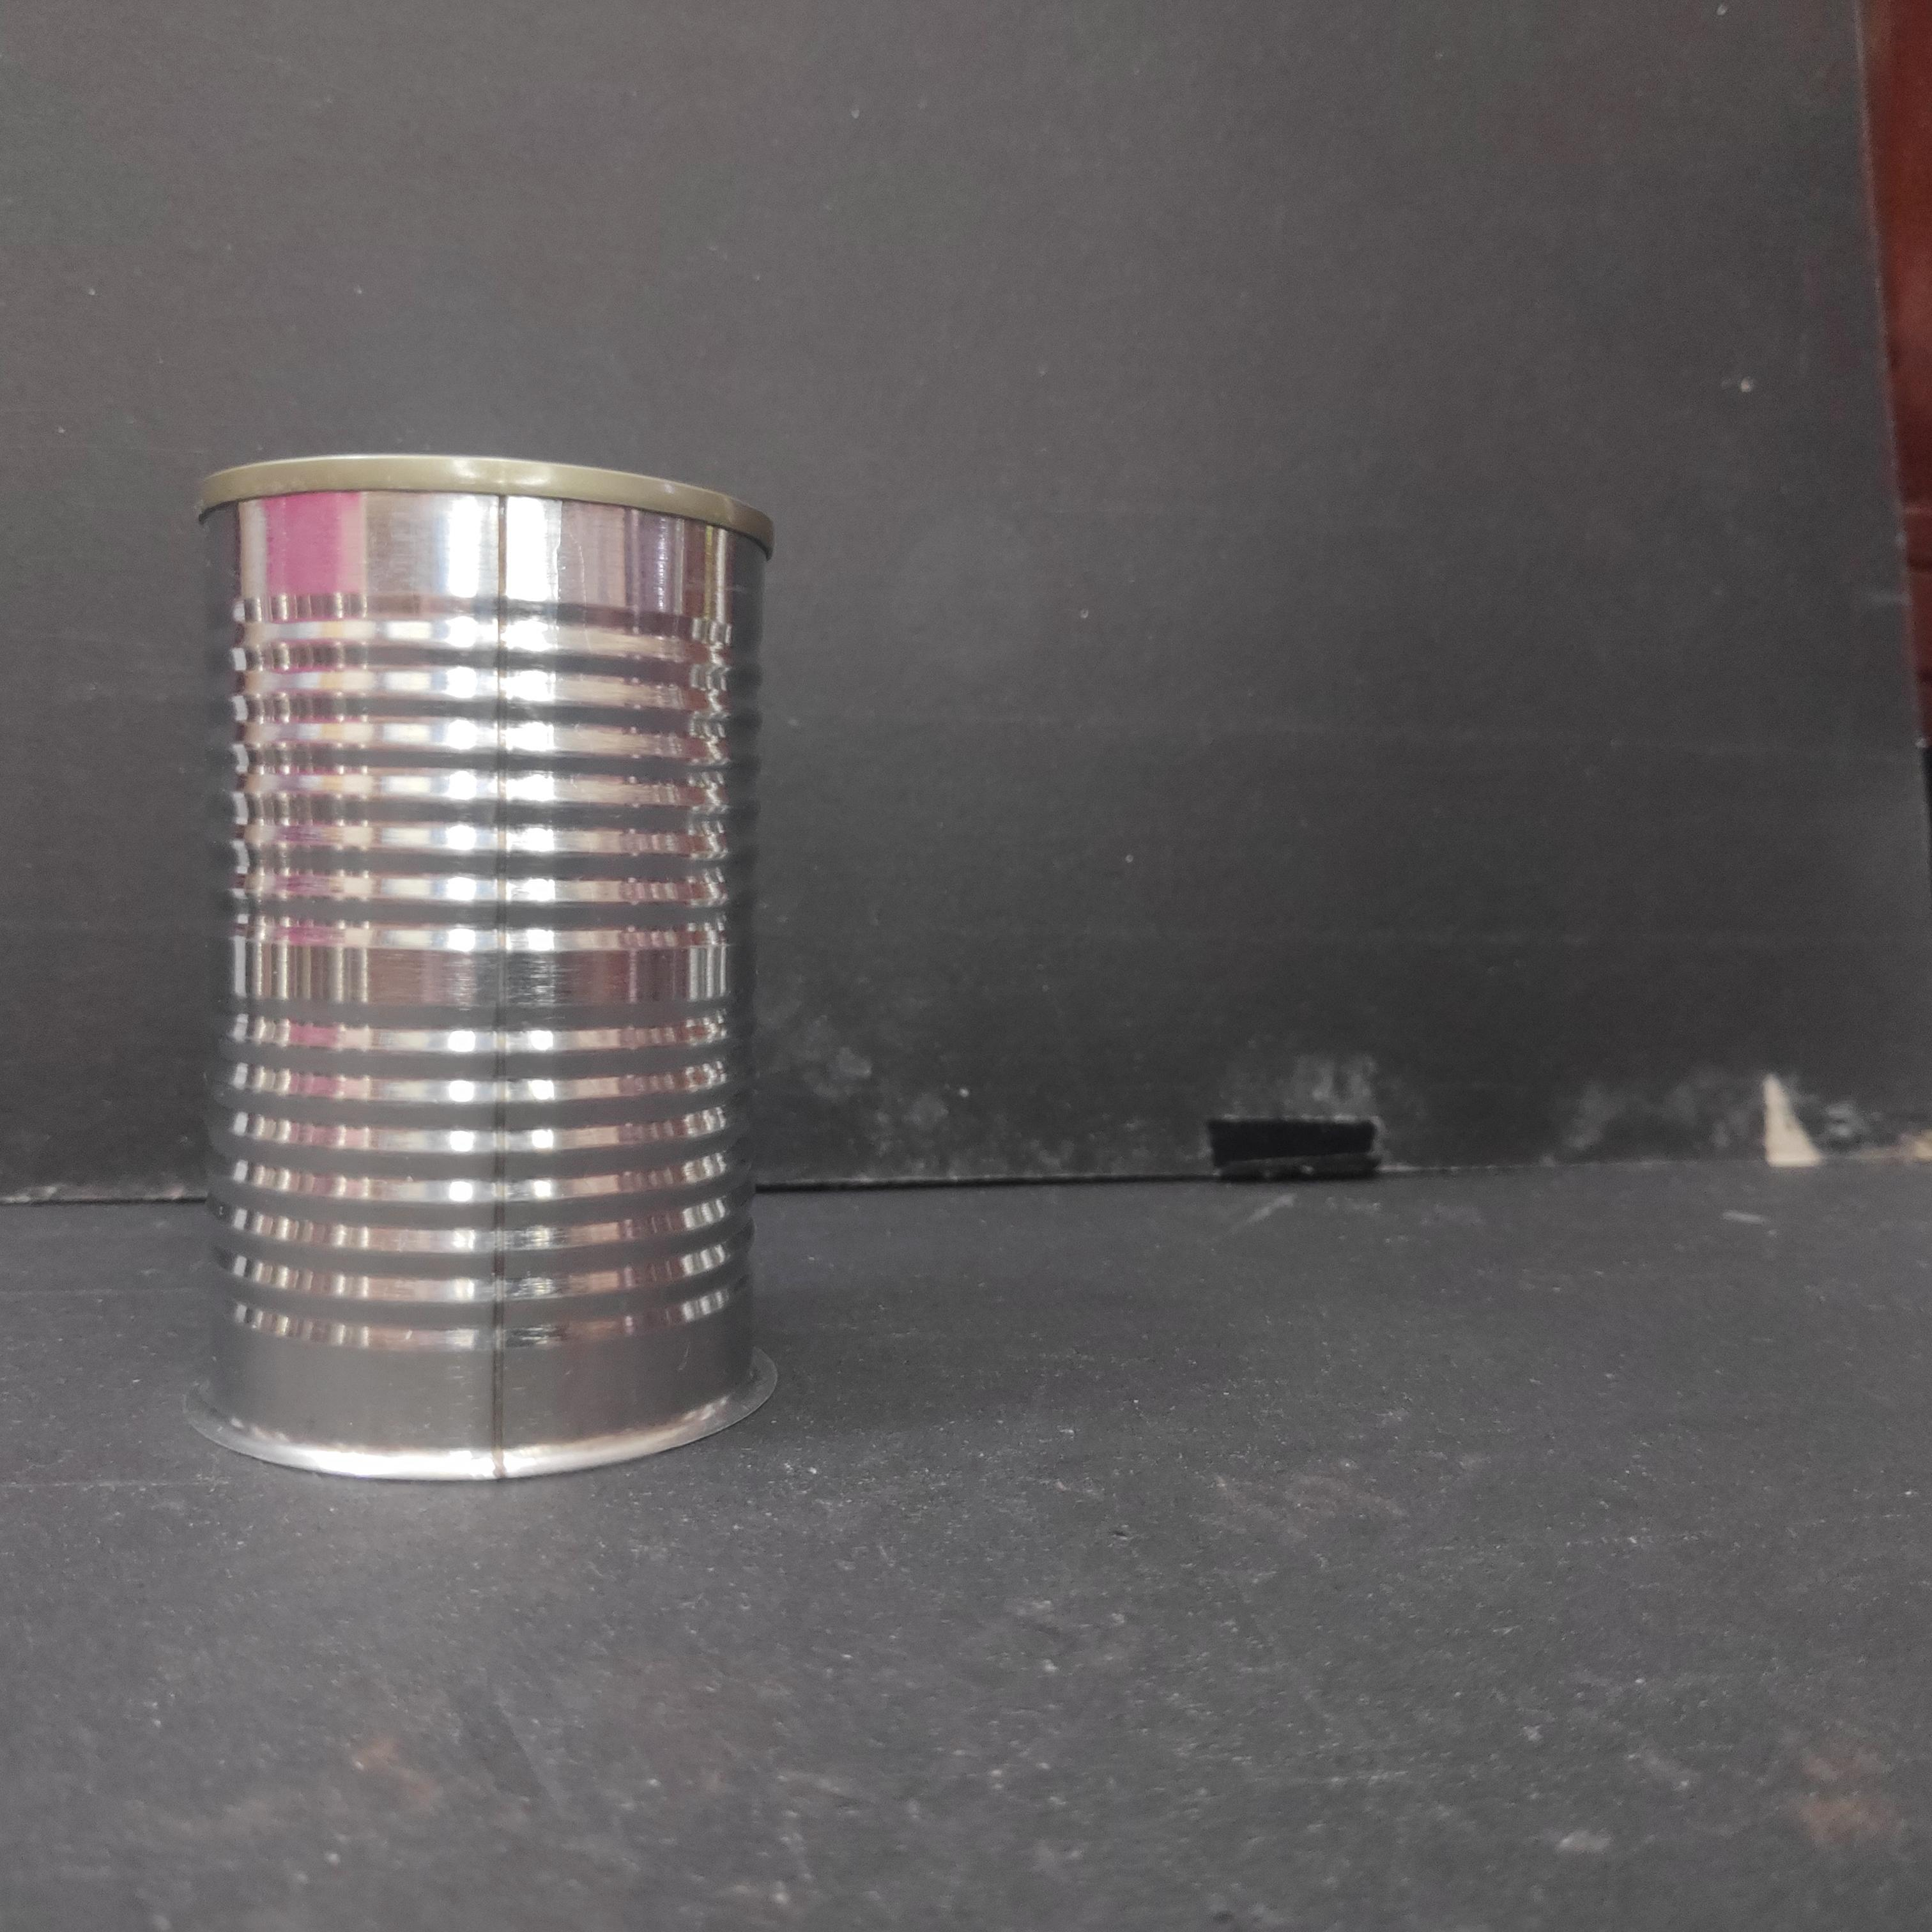No defect: (176, 450, 781, 1482)
